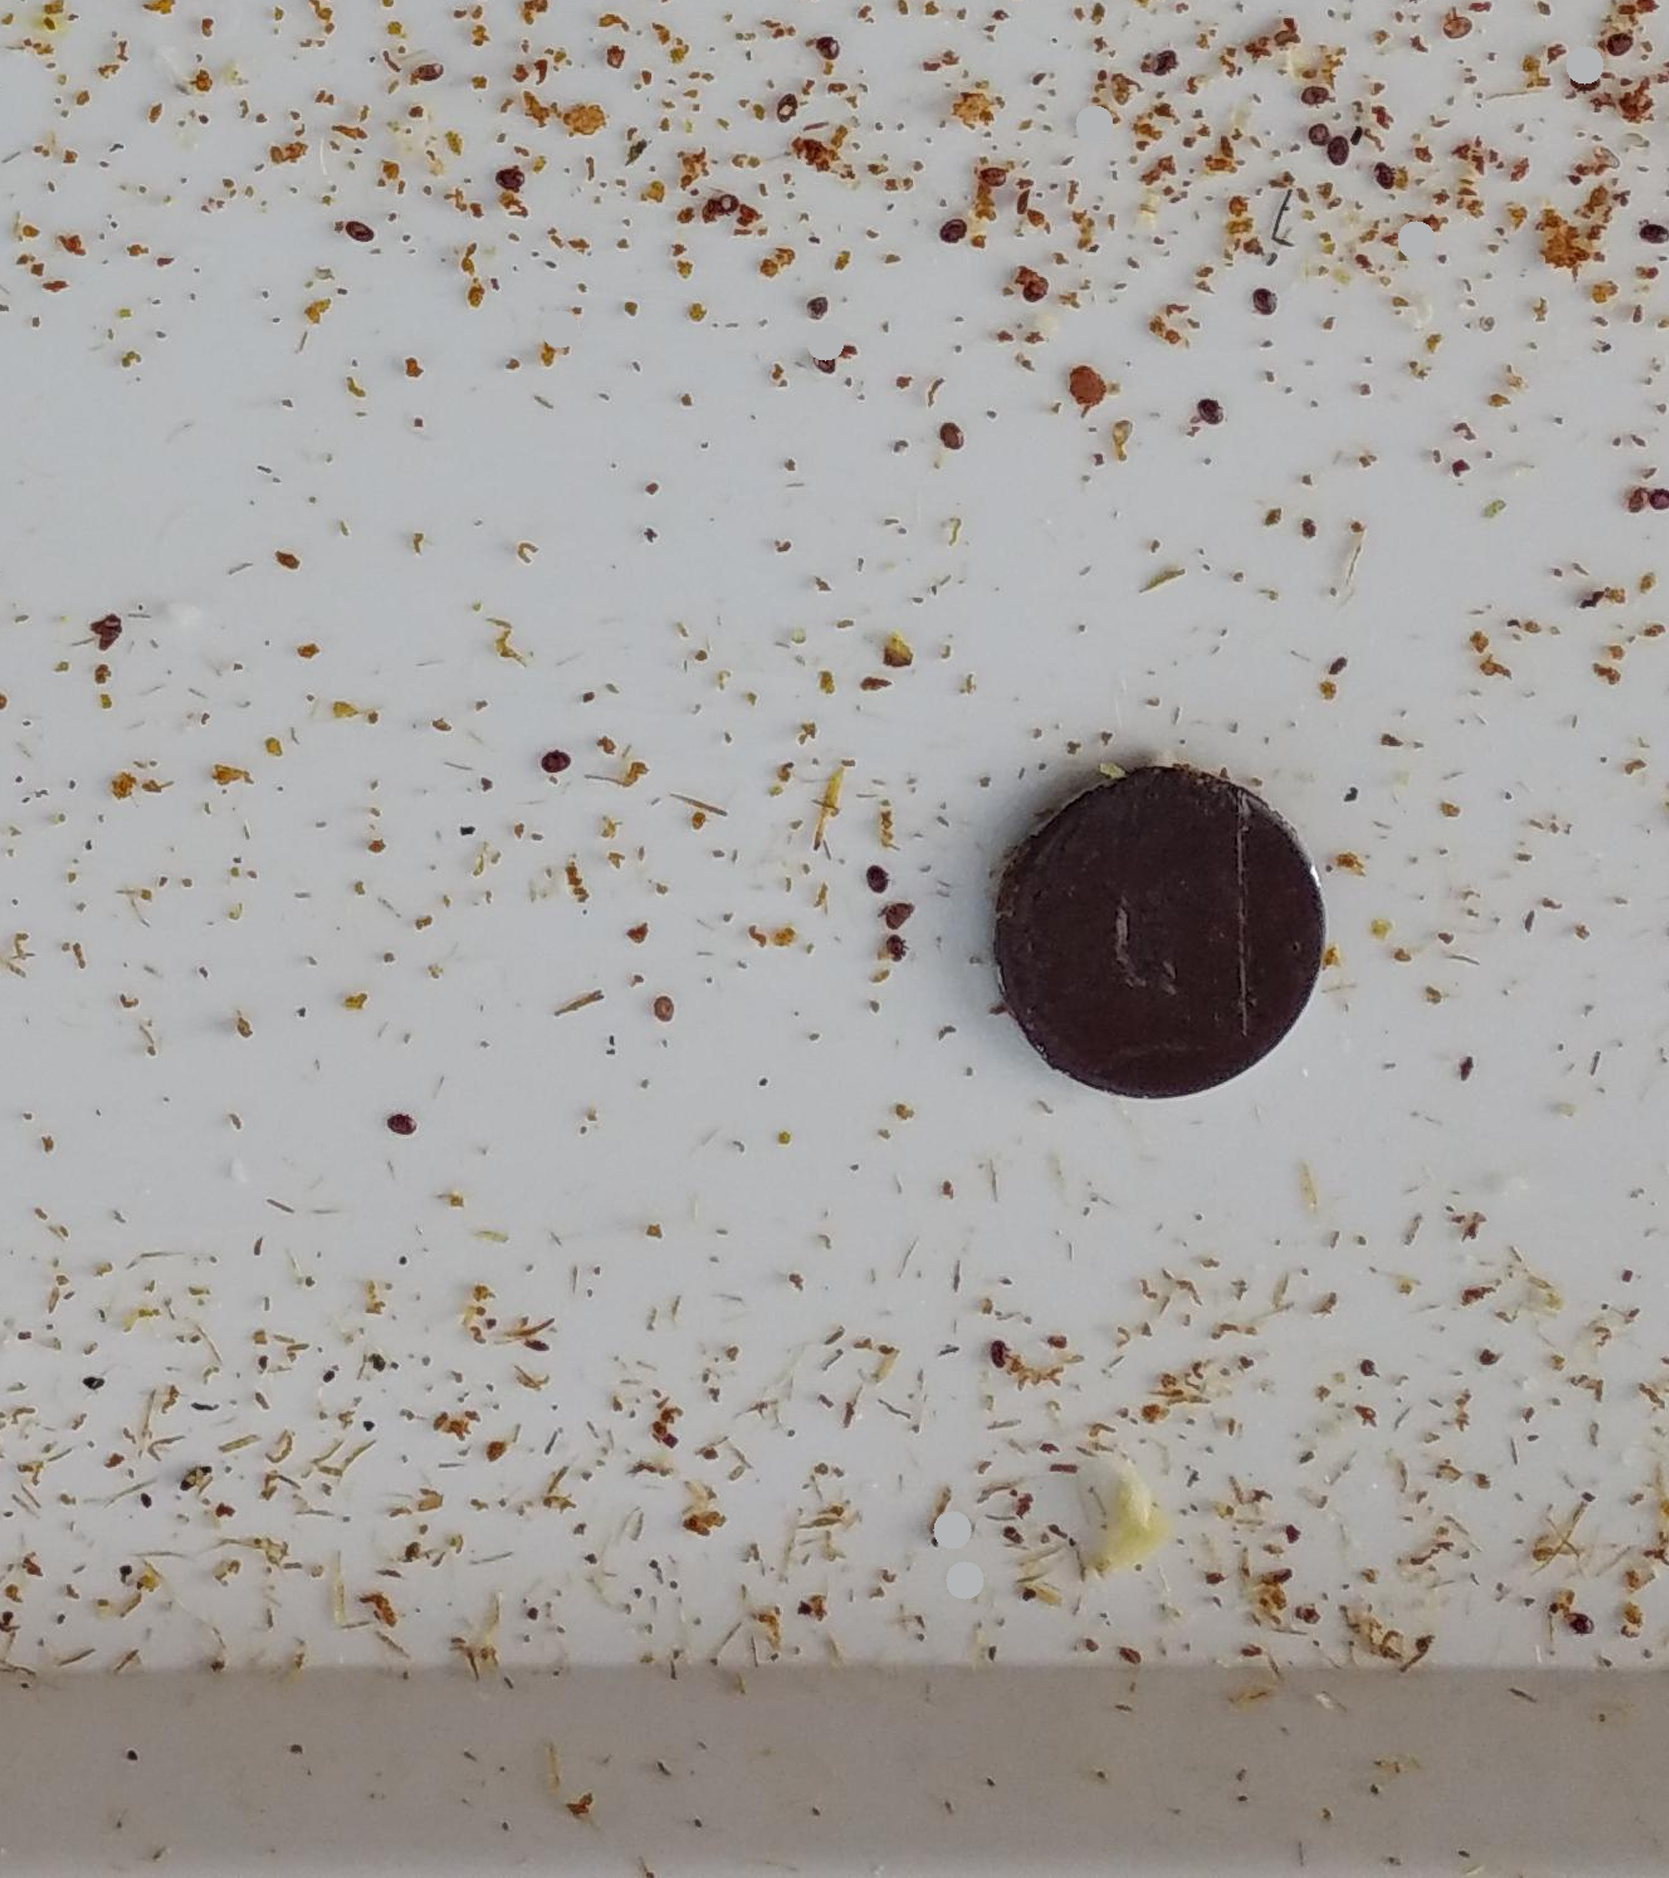Varroa: (1294, 72, 1336, 114), (876, 894, 918, 936), (707, 184, 748, 225), (1563, 69, 1600, 110), (491, 164, 528, 201), (975, 169, 1012, 206), (538, 749, 574, 788), (1244, 282, 1279, 321), (338, 213, 375, 248), (644, 991, 680, 1028), (1308, 119, 1345, 155), (1603, 31, 1637, 69), (1445, 5, 1479, 43), (936, 217, 971, 253), (875, 920, 910, 955), (933, 425, 967, 462), (810, 346, 844, 383), (412, 47, 445, 85), (809, 31, 843, 66), (1018, 267, 1052, 303), (773, 85, 807, 121), (390, 1105, 416, 1150), (988, 1335, 1021, 1369), (1326, 135, 1361, 168), (859, 868, 891, 900), (1371, 156, 1403, 188), (1559, 1599, 1592, 1632), (1194, 390, 1224, 424), (1144, 48, 1174, 82)
